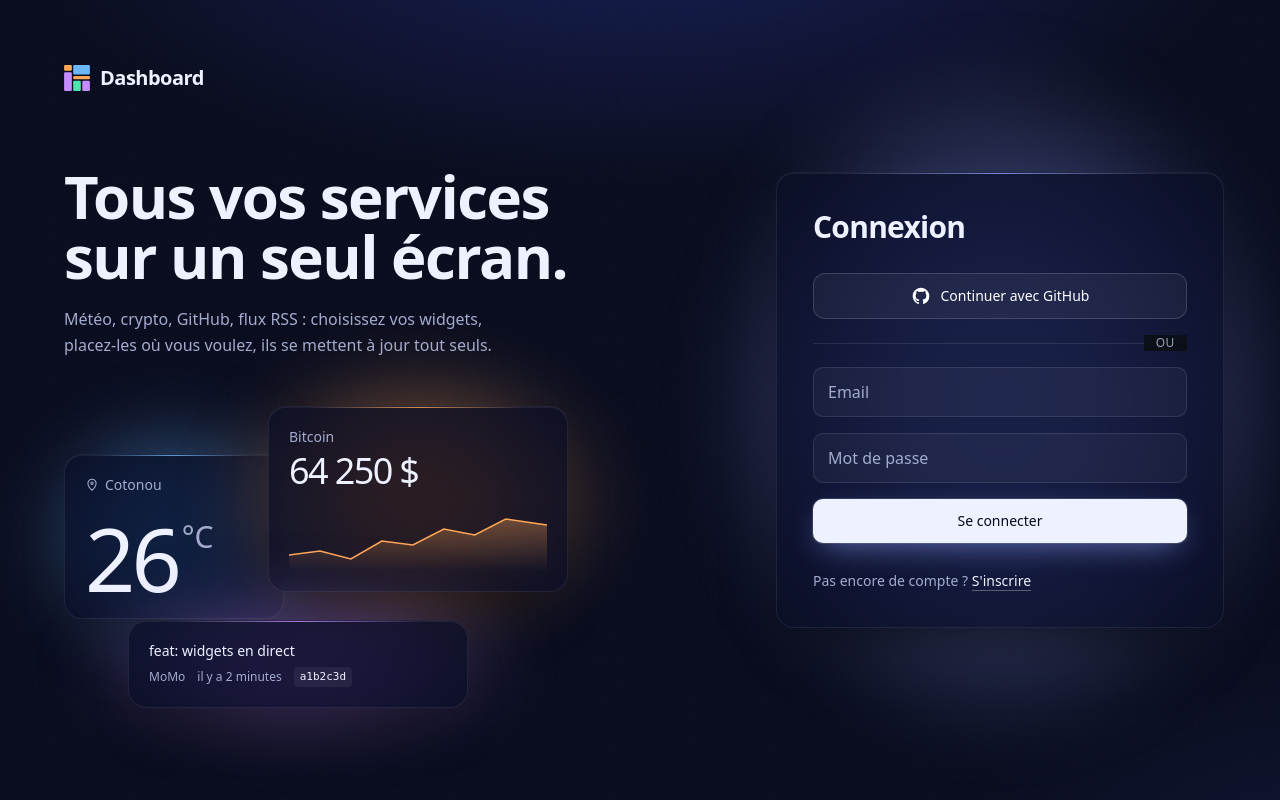
Test: Login page › shows an error message when login fails
This screenshot has width=1280, height=800.
Step 1. Type "a@b.com" into the field with placeholder "Email" → {"x": 1000, "y": 392}, box [813,367,1187,417]
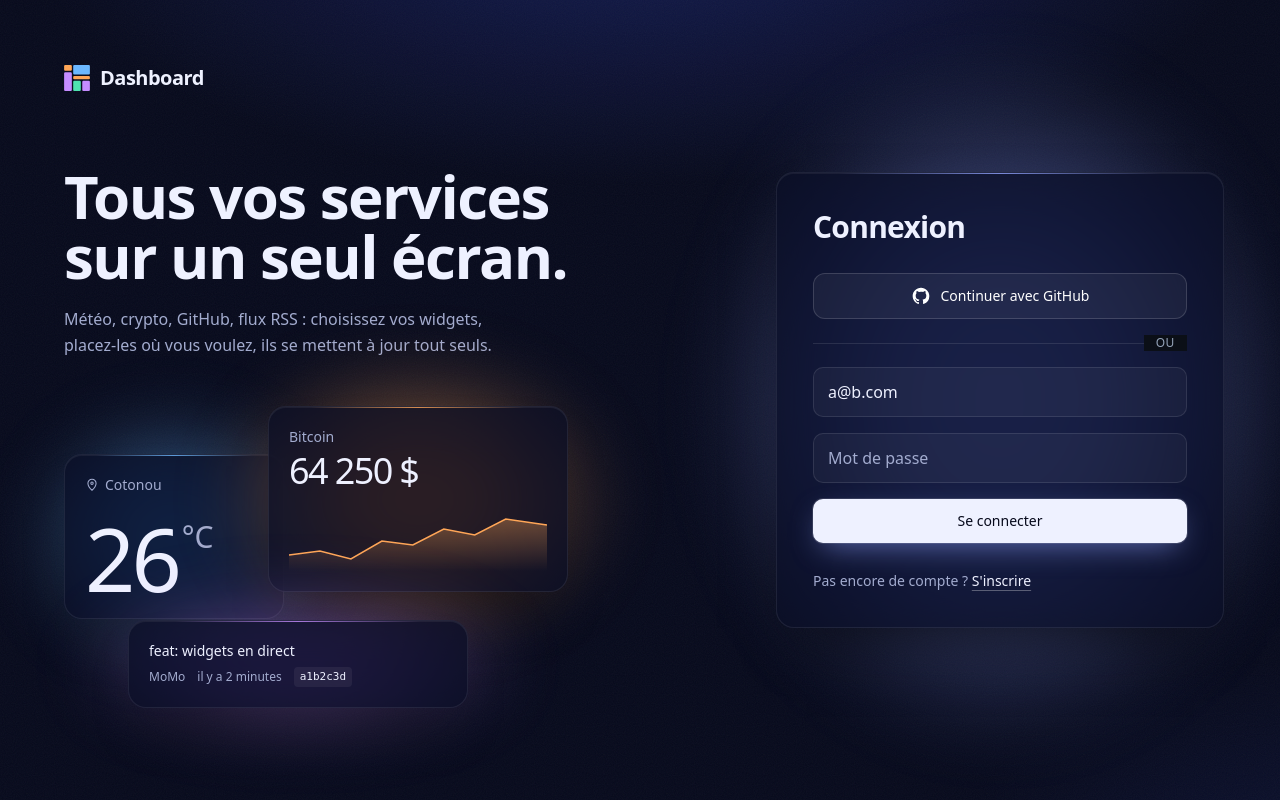
Step 2. Type "wrong" into the password field with placeholder "Mot de passe" → {"x": 1000, "y": 458}, box [813,433,1187,483]
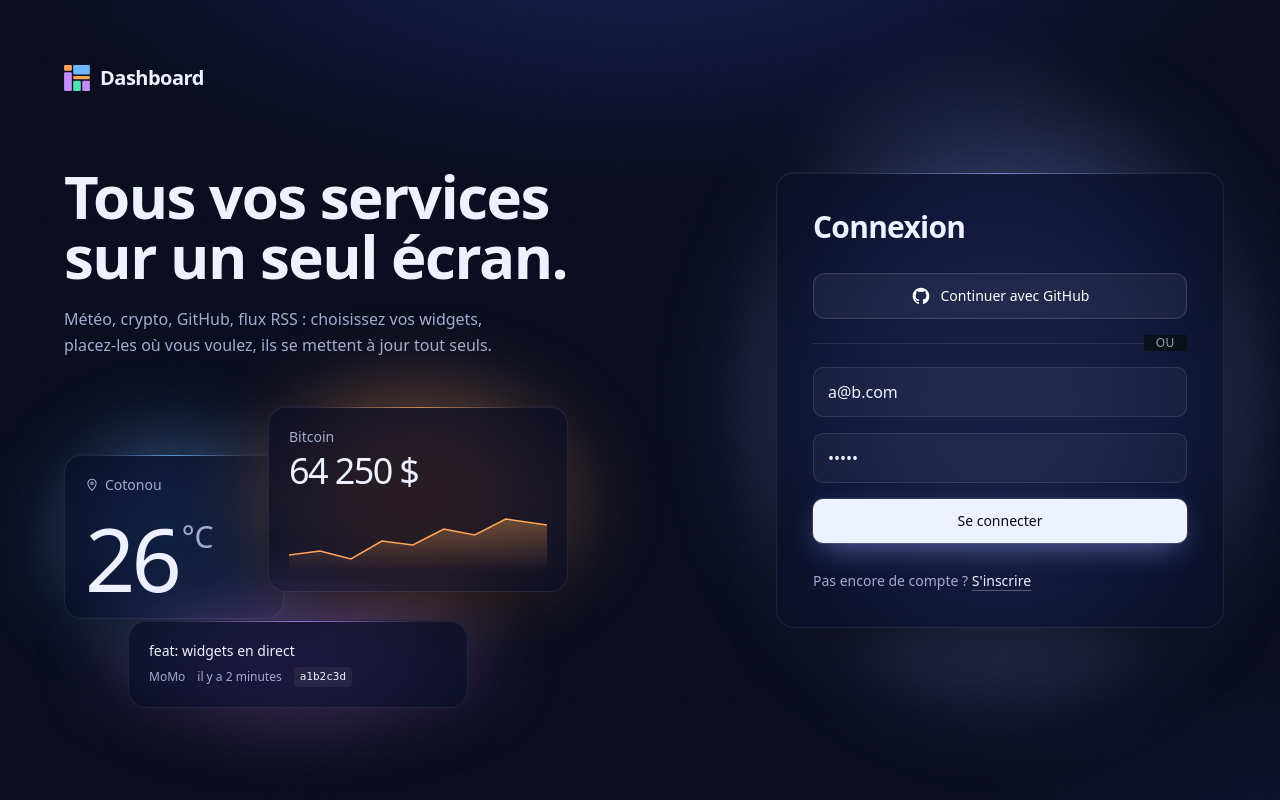
Step 3. Click the button "Se connecter" → {"x": 1000, "y": 521}, box [813,499,1187,543]
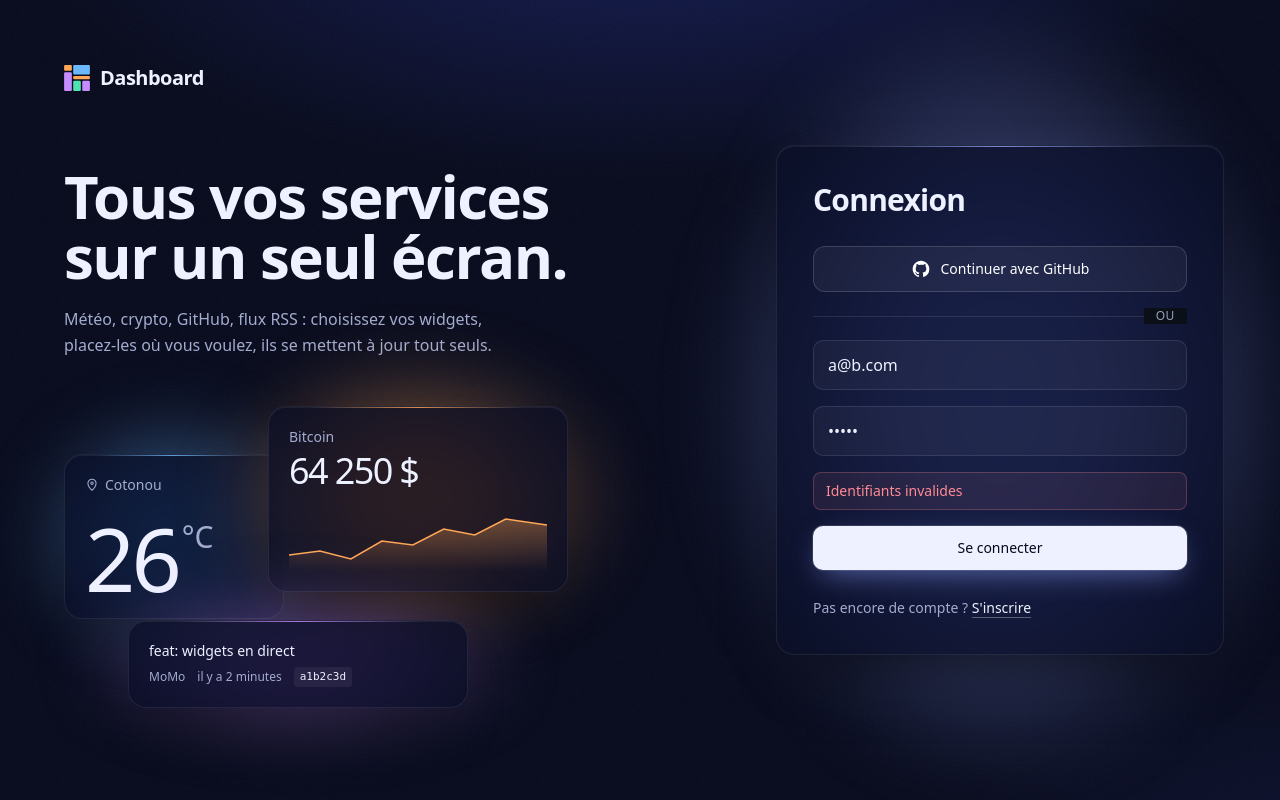
Expected: the text "Identifiants invalides" is shown, [813,472,1187,510]
